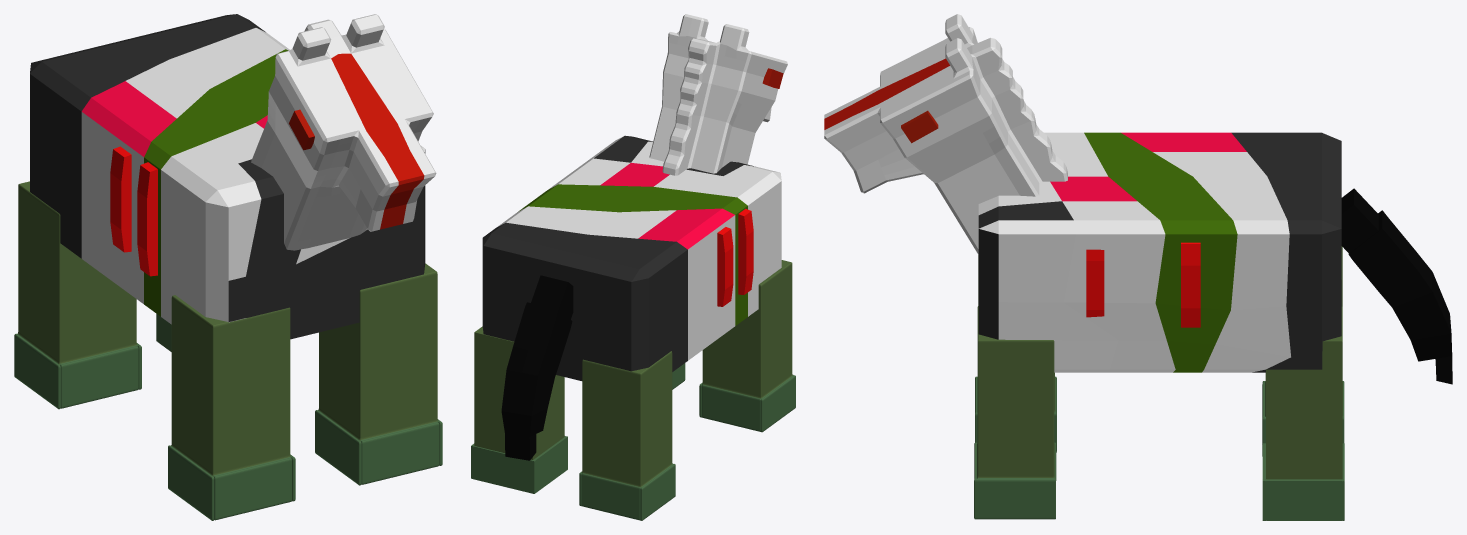
File: Trojan-Horse.fbx
3 views of the same model, side by side, from view 1: azimuth 30°, elevation 25°; view 2: azimuth 150°, elevation 25°; view 3: azimuth 270°, elevation 25° (orthographic). The views are drawn at different scales.
Parts seen in each view (by area): view 1: Body.002, Head.002, F2.002, F1.002, F4.002, ribs.002, ribs2.002, Eyes.002; view 2: Body.002, Head.002, F4.002, F2.002, F3.002, Tail.002, ribs.002, ribs2.002; view 3: Body.002, Head.002, F1.002, F3.002, Tail.002, ribs3.002, ribs1.002, eye1.002.
Boxes of the visible parts, <box> form: Body.002: <box>30,14,425,339</box>; Head.002: <box>251,14,436,250</box>; F2.002: <box>168,295,295,520</box>; F1.002: <box>315,263,442,485</box>; F4.002: <box>14,181,141,409</box>; ribs.002: <box>137,162,157,276</box>; ribs2.002: <box>110,146,131,252</box>; Eyes.002: <box>289,109,314,150</box>; Body.002: <box>482,135,781,380</box>; Head.002: <box>649,14,787,175</box>; F4.002: <box>579,351,675,520</box>; F2.002: <box>699,260,795,432</box>; F3.002: <box>471,326,567,493</box>; Tail.002: <box>501,275,573,460</box>; ribs.002: <box>738,208,753,294</box>; ribs2.002: <box>717,227,733,306</box>; Body.002: <box>978,132,1341,372</box>; Head.002: <box>824,14,1067,254</box>; F1.002: <box>974,306,1056,519</box>; F3.002: <box>1262,306,1344,520</box>; Tail.002: <box>1341,188,1452,384</box>; ribs3.002: <box>1181,242,1200,327</box>; ribs1.002: <box>1086,249,1104,317</box>; eye1.002: <box>901,110,938,143</box>.
Size of the model in its own units: 45.83 by 89.13 by 115.
